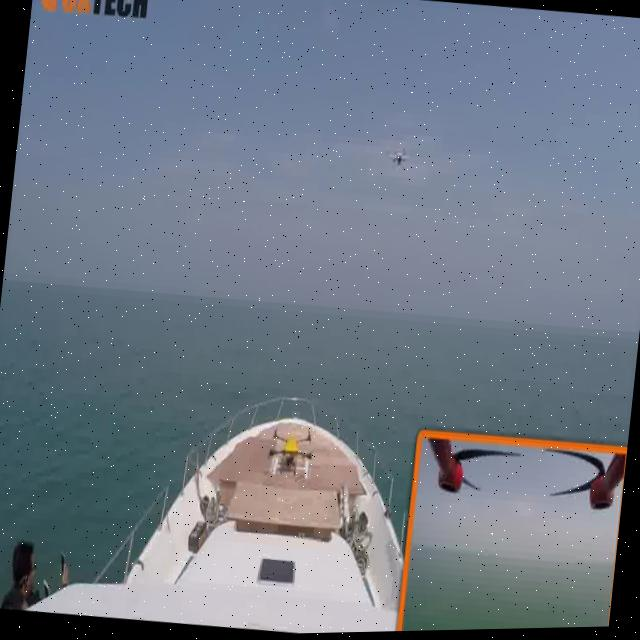drone: (254, 398, 330, 487), (379, 132, 416, 168)
